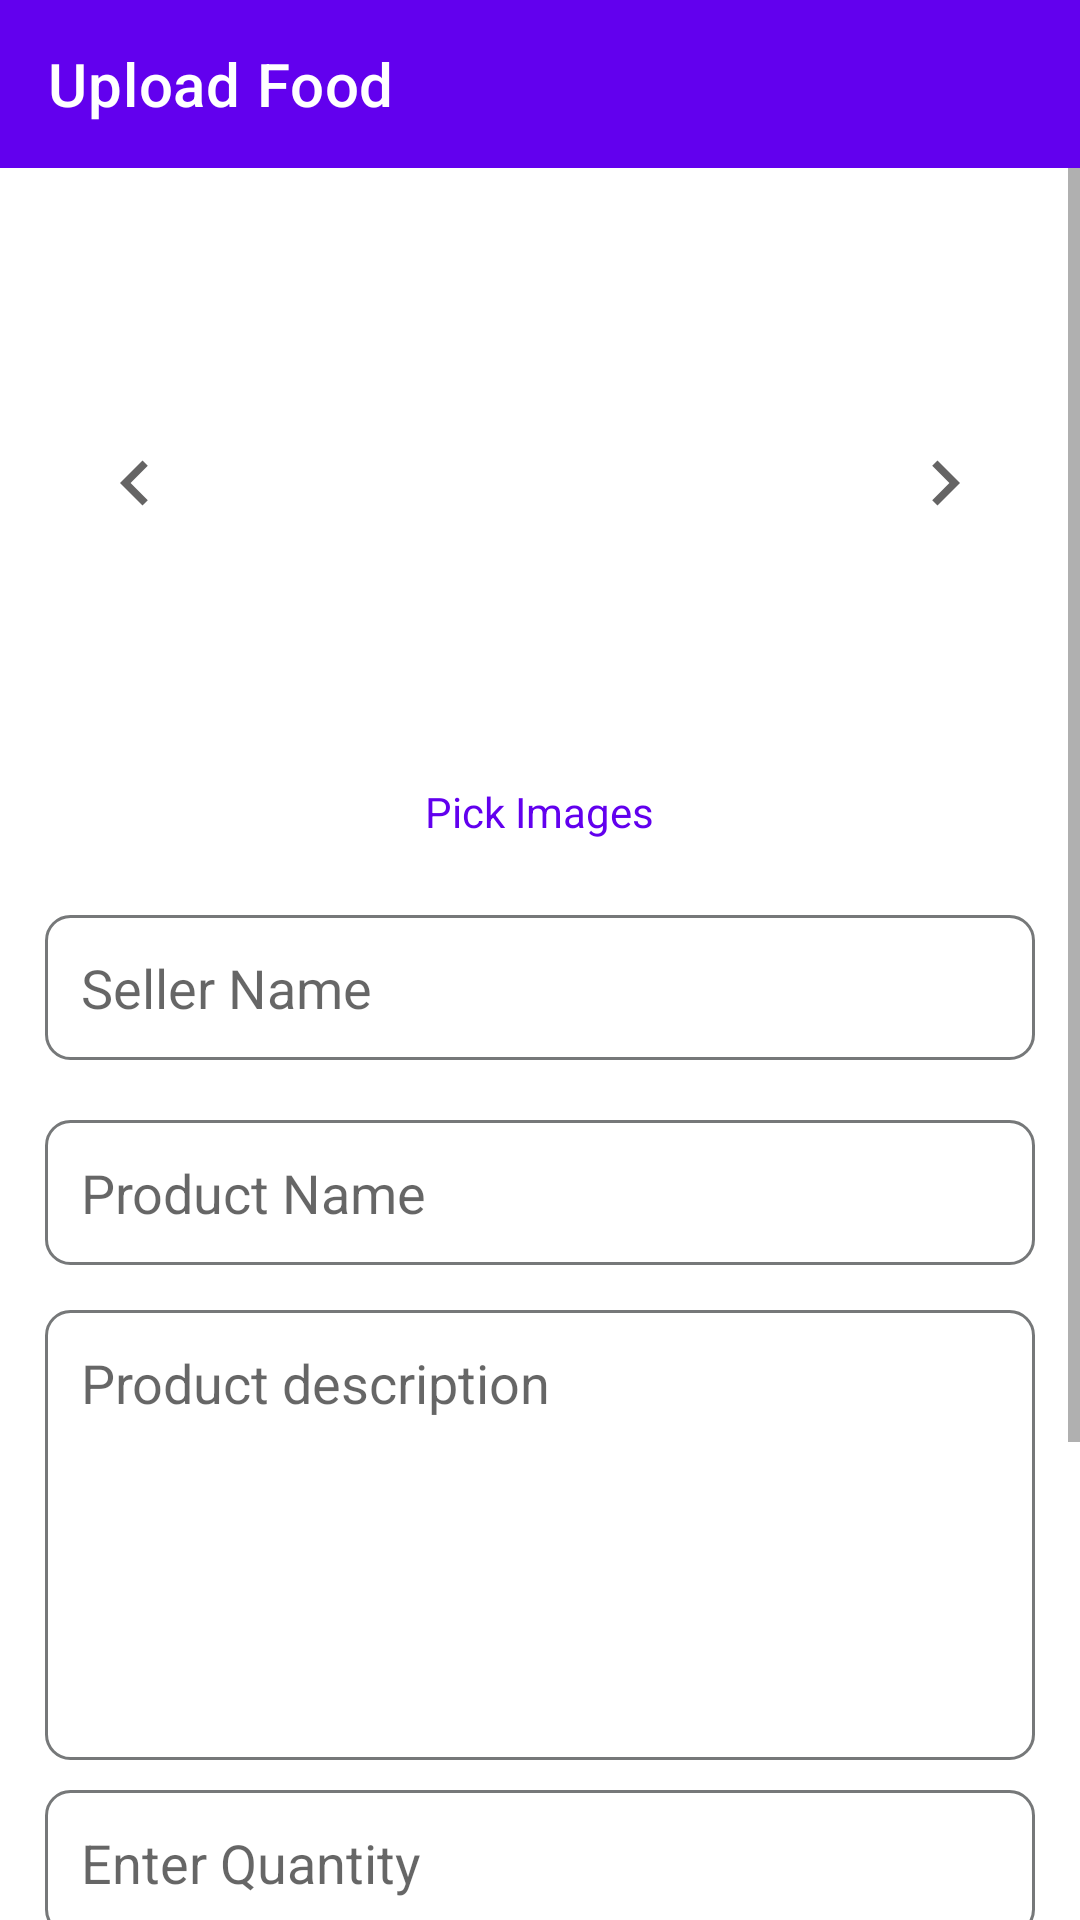

Point at icon controls on the screen. Image size 1080w x 1920h, points as point (x, y).
left: point (134, 483)
right: point (946, 483)
